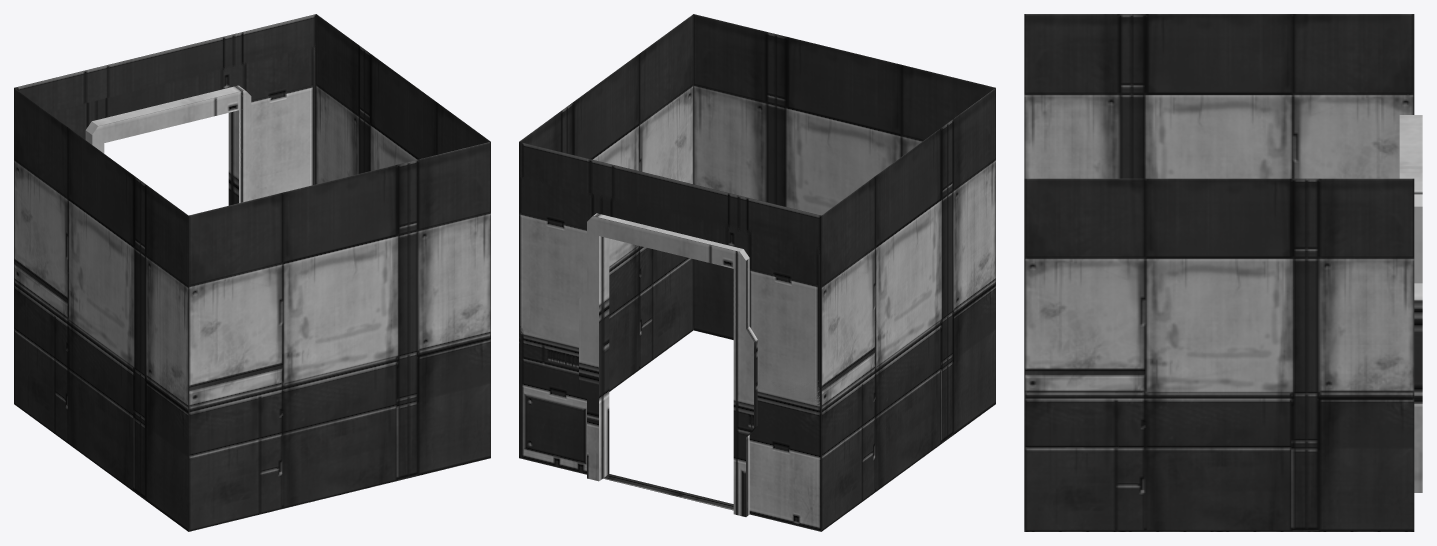
File: ElevatorEntry.fbx
3 views of the same model, side by side, from view 1: azimuth 30°, elevation 25°; view 2: azimuth 150°, elevation 25°; view 3: azimuth 270°, elevation 25° (orthographic). The views are drawn at different scales.
Visible parts, largest first — view 1: ElevatorEntry; view 2: ElevatorEntry; view 3: ElevatorEntry.
Boxes of the visible parts, x1=… form: ElevatorEntry: x1=14, y1=14, x2=490, y2=531; ElevatorEntry: x1=519, y1=14, x2=995, y2=531; ElevatorEntry: x1=1024, y1=14, x2=1422, y2=531.
Bounding box in the file's own units: 5 × 5 × 5.11.
